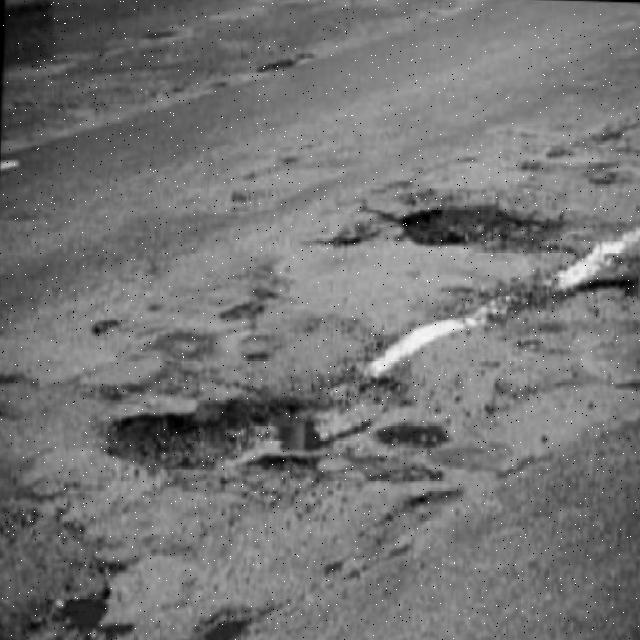pothole: (107, 398, 370, 468), (400, 205, 568, 255)
